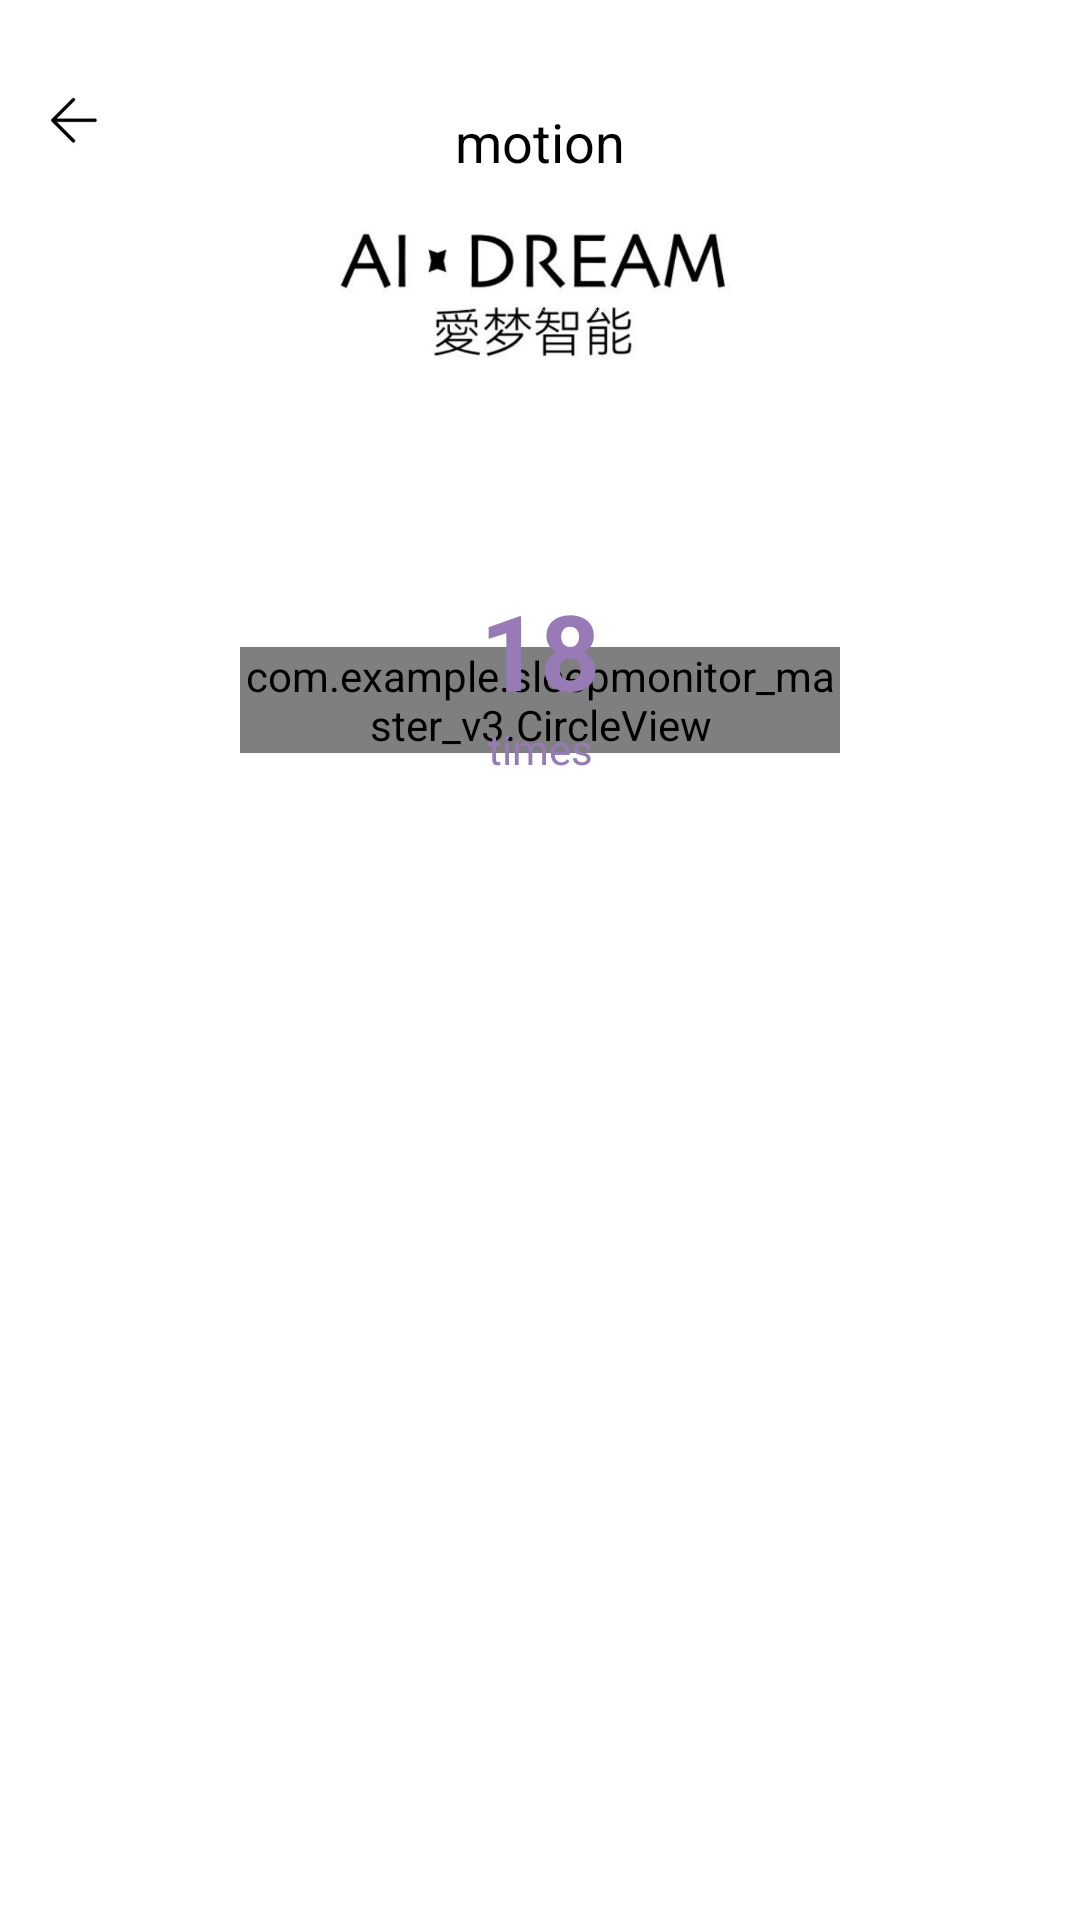

Locate icon controls on the screen. Image size 1080*1920, boxes as (x1, y1, x2, y2).
left arrow: (51, 97, 97, 143)
